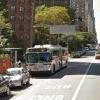Bus: (25, 43, 73, 70)
